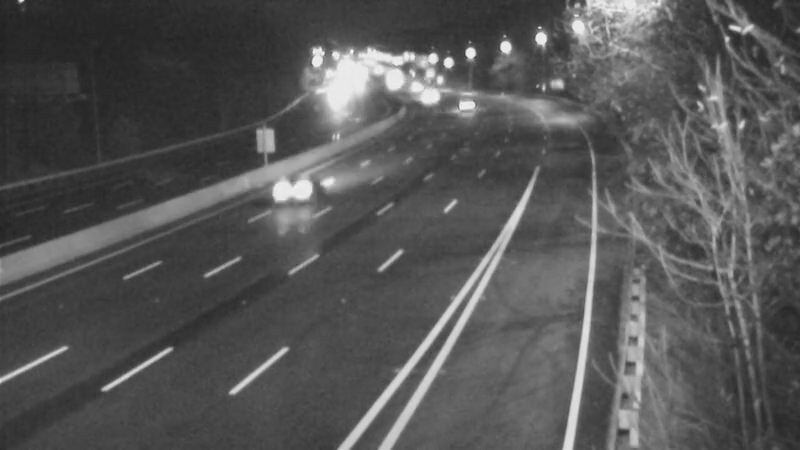vehicle: (259, 143, 339, 223), (403, 72, 453, 122), (441, 77, 491, 127)
